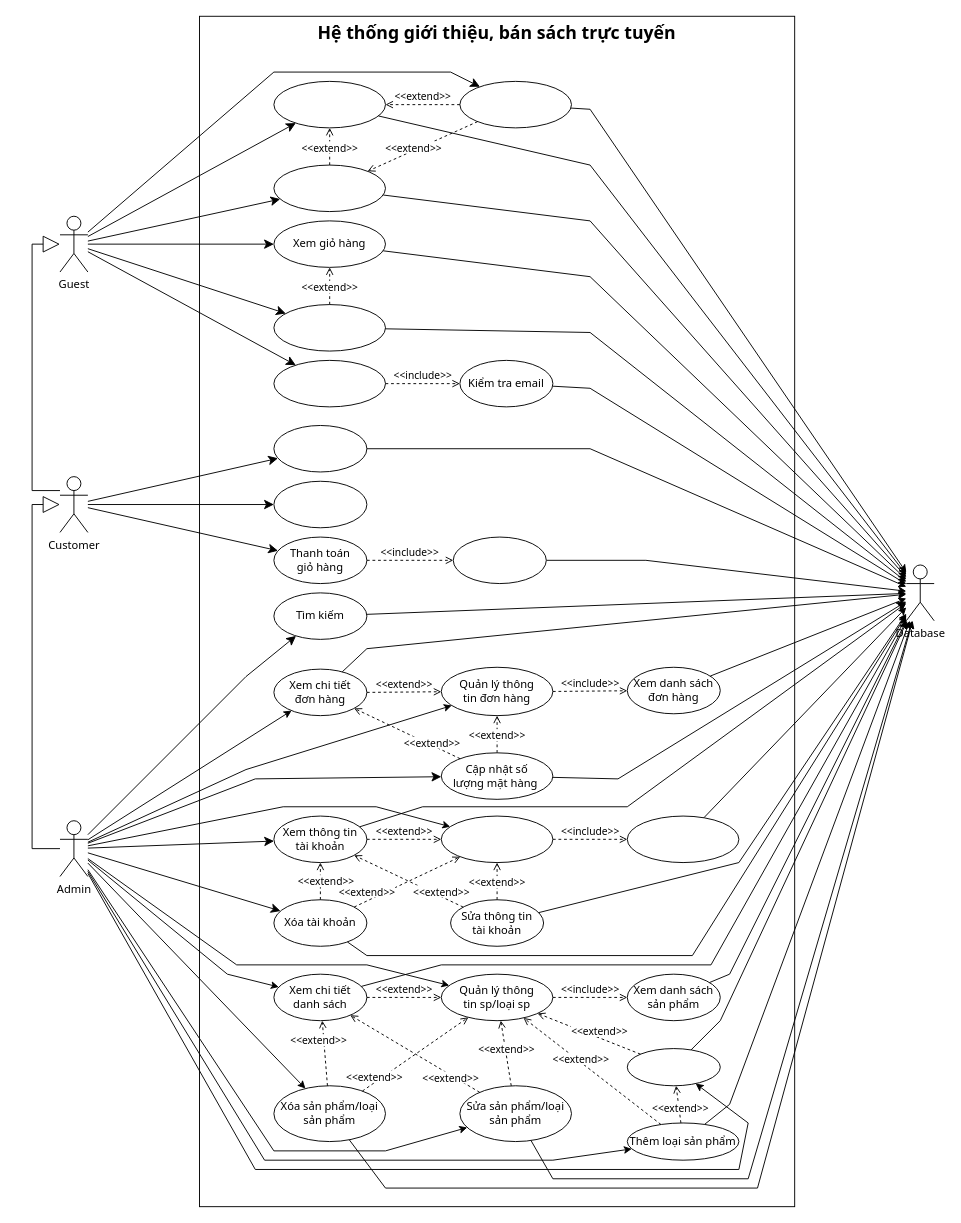
Image size: 961x1223. Some labels were removed from this diagram. The centre of each missing label's shape, as x and y in pixels:
Quản lý thông tin tài khoản: [496,839]
Sửa số lượng trong giỏ hàng: [329,327]
Thêm sản phẩm: [673,1067]
Thêm vào giỏ hàng: [515,104]
Tạo đơn hàng: [499,560]
Xem chi tiết: [329,188]
Xem danh sách: [329,104]
Xem danh sách tài khoản: [682,839]
Đăng kí tài khoản: [329,383]
Đăng nhập: [320,448]
Đăng xuất: [320,504]
